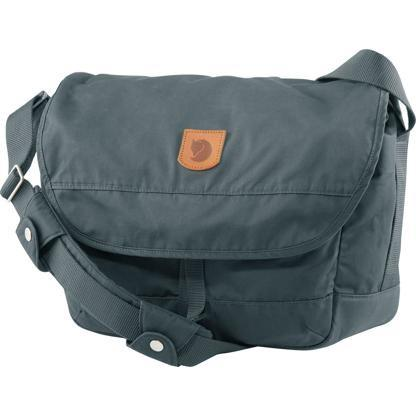not trash: (6, 48, 416, 365)
